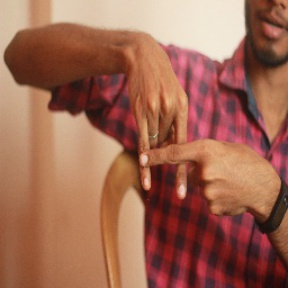H: (111, 93, 222, 209)
